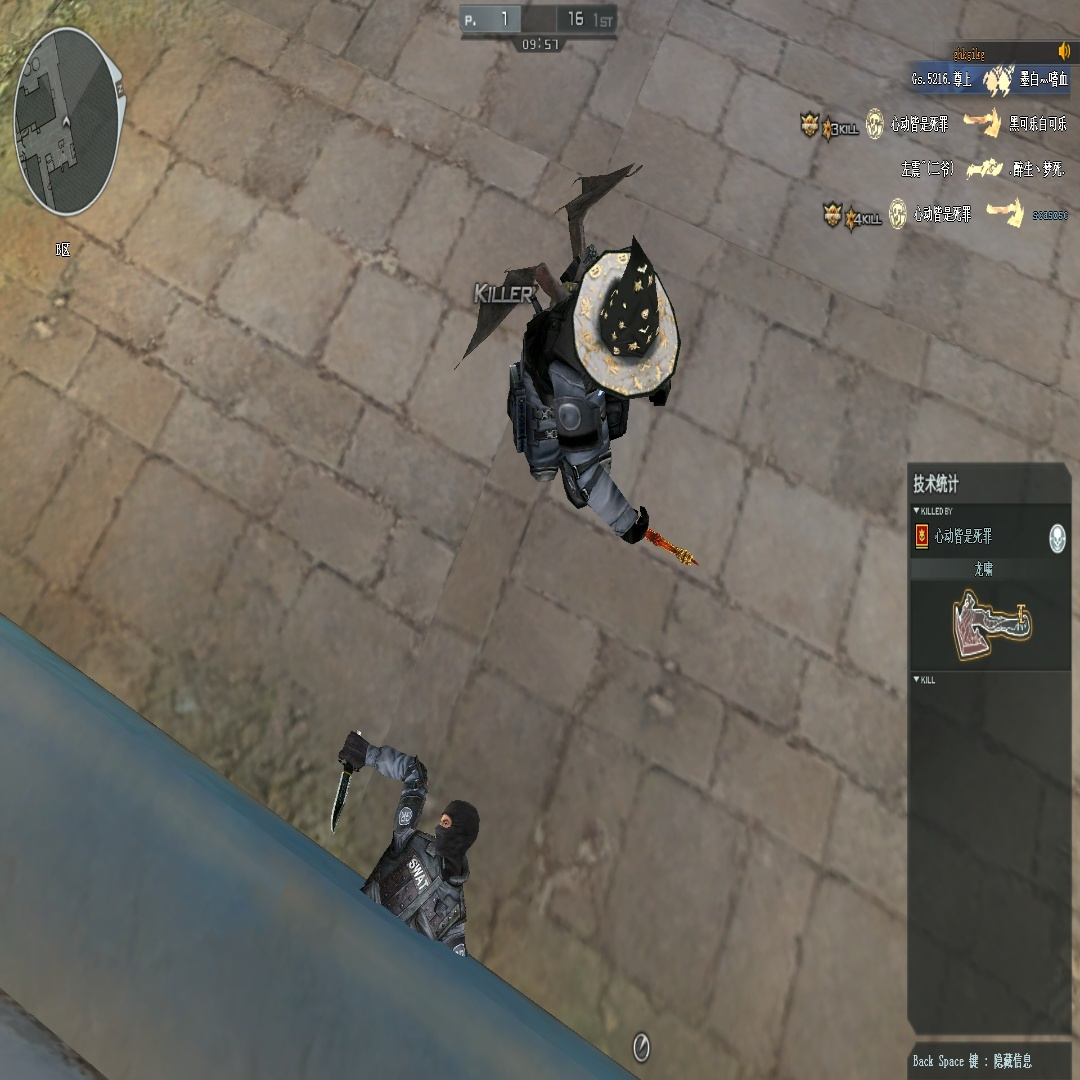p: (510, 246, 650, 550)
